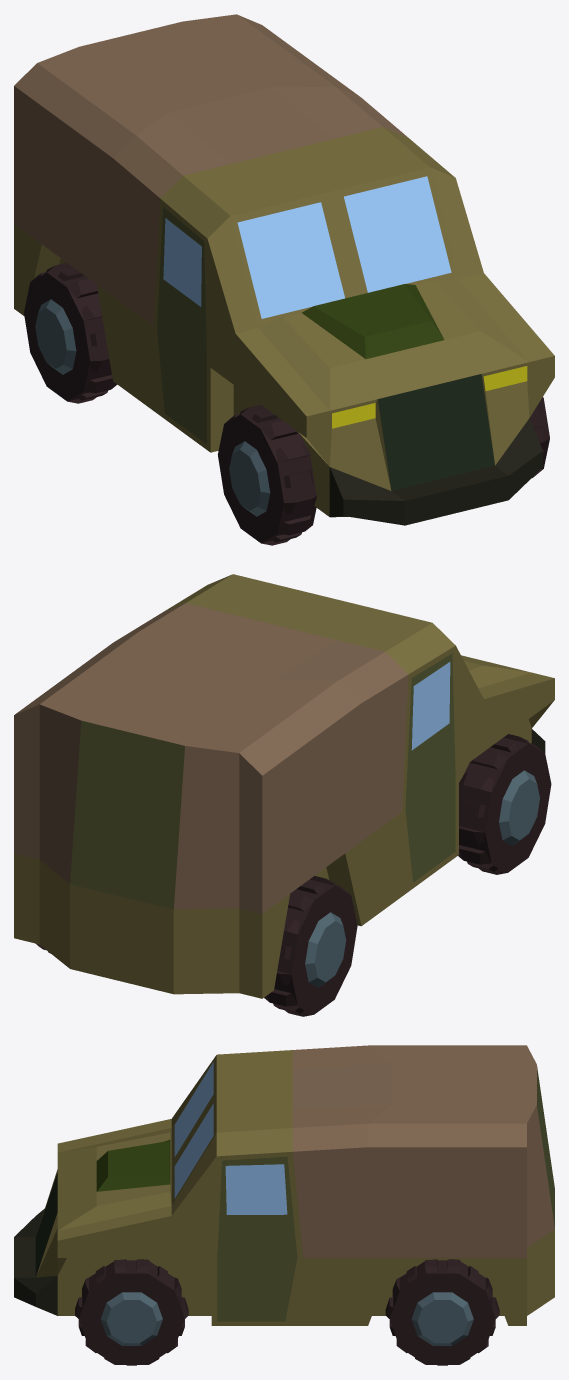
The model's file is UAZMaastoauto.fbx.
3 renders of one model, top to bottom at view 1: azimuth 30°, elevation 25°; view 2: azimuth 150°, elevation 25°; view 3: azimuth 270°, elevation 25°, orthographic. The views are drawn at different scales.
Visible parts, largest first — view 1: Cube, Rengas.003, Rengas.005, Rengas.002; view 2: Cube, Rengas.003, Rengas.005; view 3: Cube, Rengas.004, Rengas.002.
Boxes of the visible parts, x1,y1,x2,y2 form: Cube: (14, 14, 554, 525); Rengas.003: (217, 404, 316, 545); Rengas.005: (24, 262, 117, 403); Rengas.002: (529, 397, 549, 477); Cube: (14, 574, 554, 998); Rengas.003: (458, 734, 551, 874); Rengas.005: (264, 876, 357, 1016); Cube: (14, 1045, 554, 1325); Rengas.004: (385, 1259, 499, 1365); Rengas.002: (75, 1259, 188, 1365).
Bounding box in the file's own units: 200 × 199 × 420.
